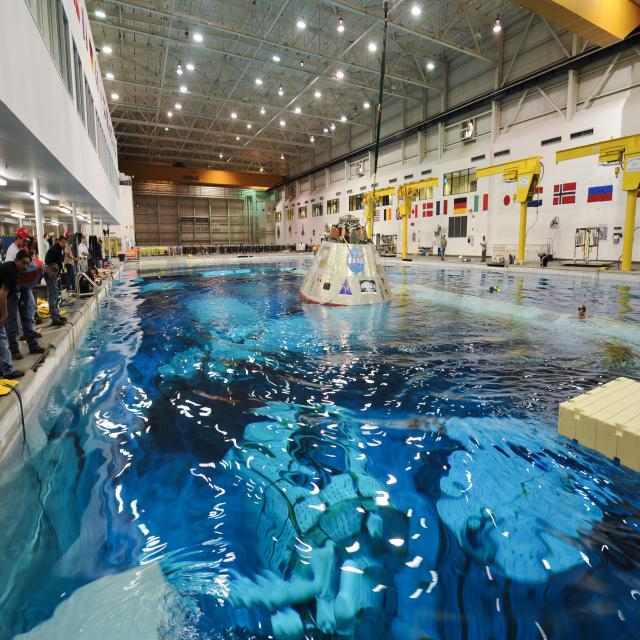Orion_capsule_mockup_(WEST)_located_on_far_end_of_pool: (299, 213, 394, 307)
